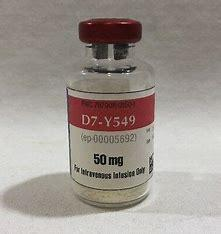Syringe: (62, 14, 160, 212)
